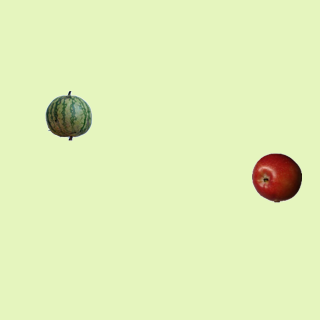Apple Braeburn: (251, 152, 301, 202)
Watermelon: (43, 90, 93, 140)
